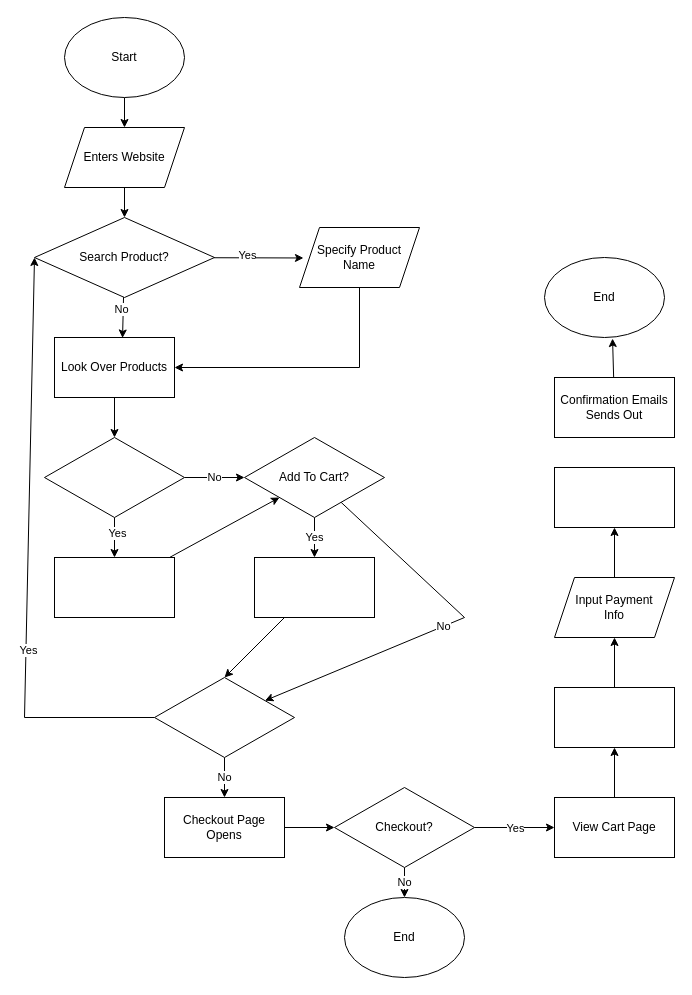
Some shapes in this 692 by 995 pixel diagram are drawn without their labels. The centre of each missing label's shape, as x and y in pixels:
Confirmation Message Shows: the point at 314,587
Confirmation Page Shows Up: the point at 614,497
Continue Shopping?: the point at 224,717
Product Page Opens: the point at 114,587
View Payment Page: the point at 614,717
View Specific Product?: the point at 114,477
